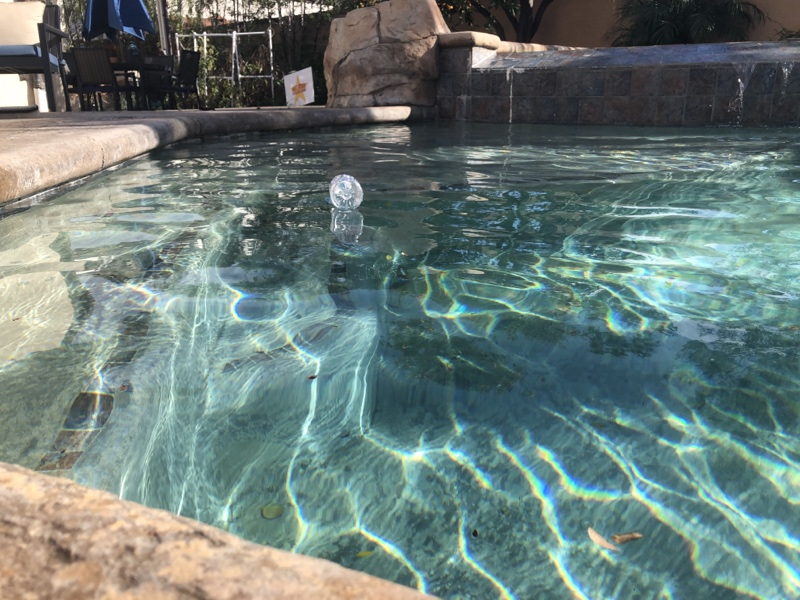Plastic Bottle: (324, 173, 368, 212)
